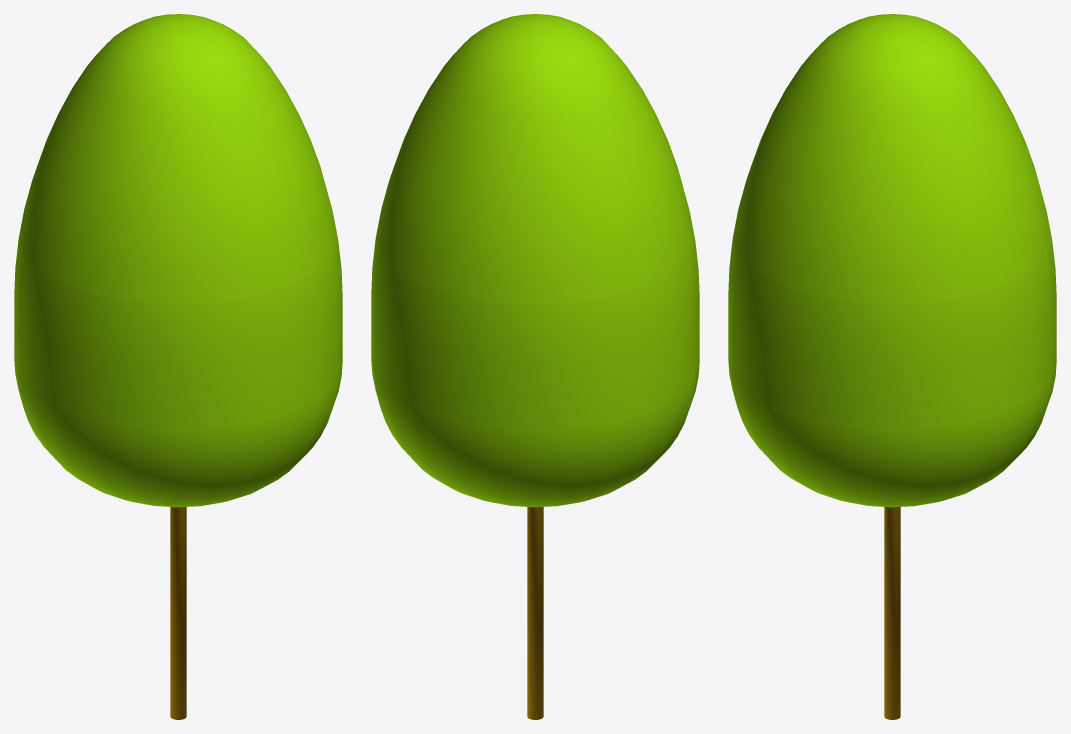
3 renders of one model, left to right at view 1: azimuth 30°, elevation 25°; view 2: azimuth 150°, elevation 25°; view 3: azimuth 270°, elevation 25°, orthographic.
Parts seen in each view (by area): view 1: LP14m_kk; view 2: LP14m_kk; view 3: LP14m_kk.
Boxes of the visible parts, x1=… form: LP14m_kk: x1=14, y1=14, x2=342, y2=719; LP14m_kk: x1=371, y1=14, x2=699, y2=719; LP14m_kk: x1=728, y1=14, x2=1056, y2=719.
Size of the model in its own units: 6.01 by 14 by 6.01.
